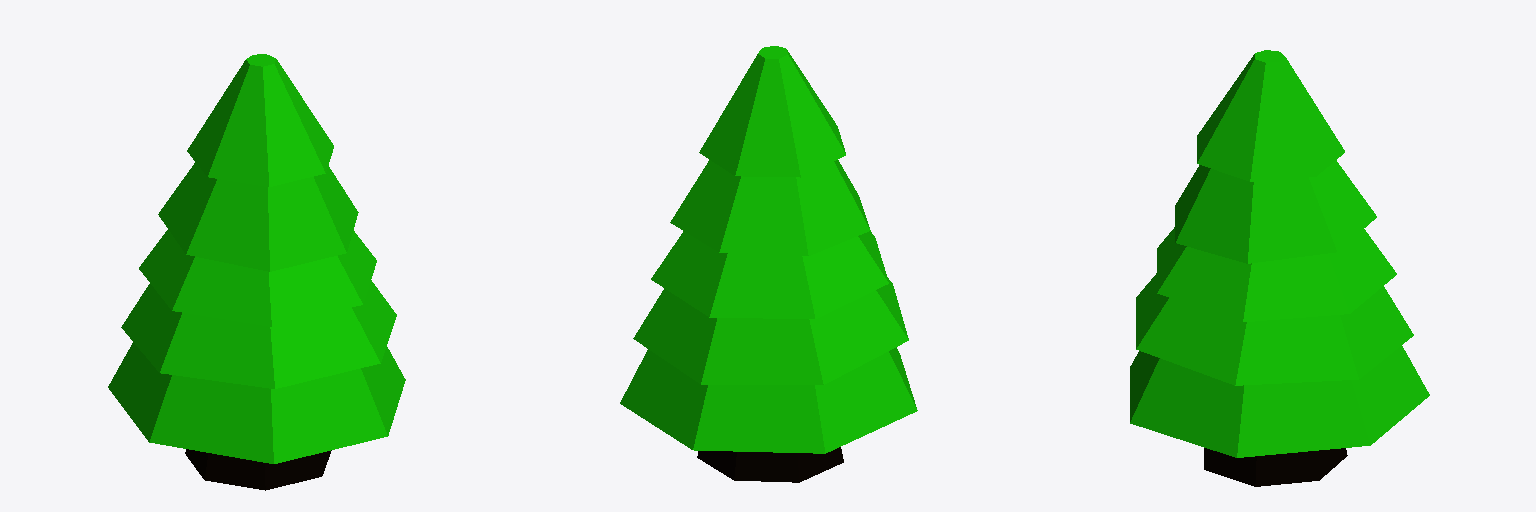
Rendered from ctree1B(F68).obj.
The picture shows the model from 3 angles: view 1: azimuth 30°, elevation 25°; view 2: azimuth 150°, elevation 25°; view 3: azimuth 270°, elevation 25°; orthographic projection.
Visible parts, largest first — view 1: Cylinder.123, Cylinder.122, Cylinder.120, Cylinder.121, Cylinder.119, Cylinder.124; view 2: Cylinder.123, Cylinder.122, Cylinder.121, Cylinder.120, Cylinder.119, Cylinder.124; view 3: Cylinder.123, Cylinder.122, Cylinder.120, Cylinder.121, Cylinder.119, Cylinder.124.
Part boxes in pixels (bbox=[...]): Cylinder.123: bbox=[108, 342, 405, 463]; Cylinder.122: bbox=[121, 280, 396, 388]; Cylinder.120: bbox=[158, 162, 358, 271]; Cylinder.121: bbox=[139, 230, 376, 326]; Cylinder.119: bbox=[187, 54, 333, 186]; Cylinder.124: bbox=[185, 449, 331, 490]; Cylinder.123: bbox=[620, 347, 917, 453]; Cylinder.122: bbox=[633, 278, 908, 384]; Cylinder.121: bbox=[651, 231, 888, 318]; Cylinder.120: bbox=[670, 160, 870, 255]; Cylinder.119: bbox=[699, 46, 845, 177]; Cylinder.124: bbox=[697, 447, 843, 482]; Cylinder.123: bbox=[1130, 346, 1429, 457]; Cylinder.122: bbox=[1136, 273, 1413, 385]; Cylinder.120: bbox=[1175, 160, 1376, 263]; Cylinder.121: bbox=[1157, 227, 1396, 321]; Cylinder.119: bbox=[1197, 50, 1344, 181]; Cylinder.124: bbox=[1204, 448, 1347, 486].
Size of the model in its own units: 1.16 by 1.73 by 1.18.